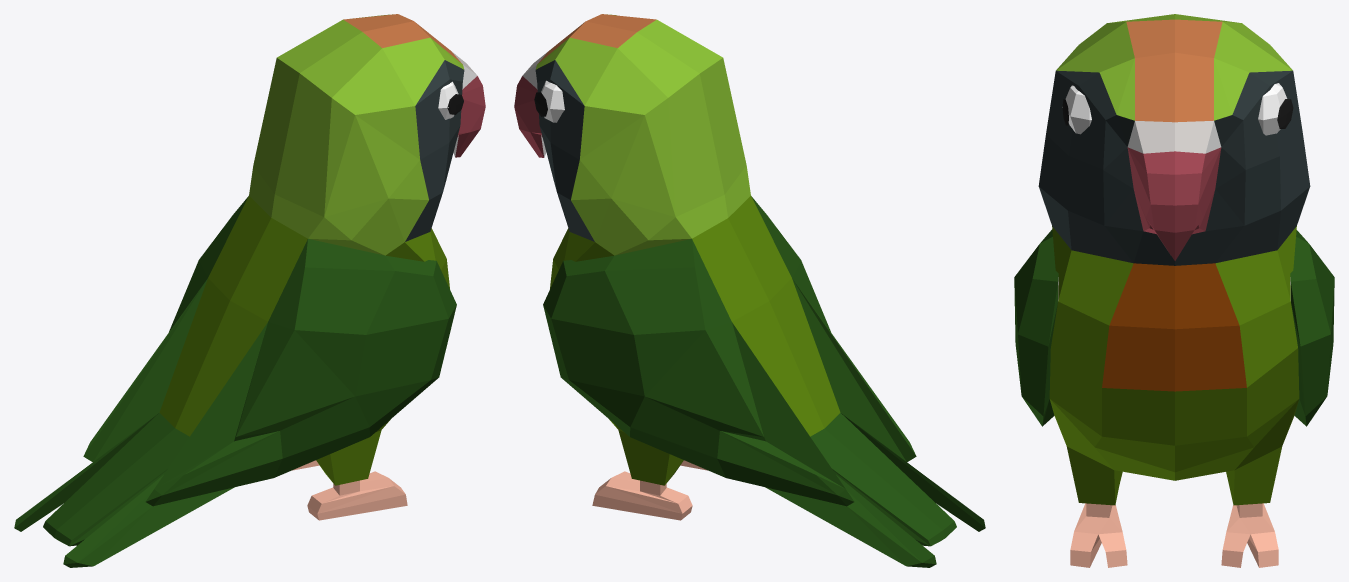
The model's file is Parrot.fbx.
3 views of the same model, side by side, from view 1: azimuth 30°, elevation 25°; view 2: azimuth 150°, elevation 25°; view 3: azimuth 270°, elevation 25° (orthographic). The views are drawn at different scales.
Parts seen in each view (by area): view 1: Parrot; view 2: Parrot; view 3: Parrot.
Boxes of the visible parts, bbox=[...] form: Parrot: bbox=[14, 14, 485, 567]; Parrot: bbox=[514, 14, 985, 567]; Parrot: bbox=[1014, 14, 1334, 567].
Size of the model in its own units: 99.8 by 96.29 by 51.37.
